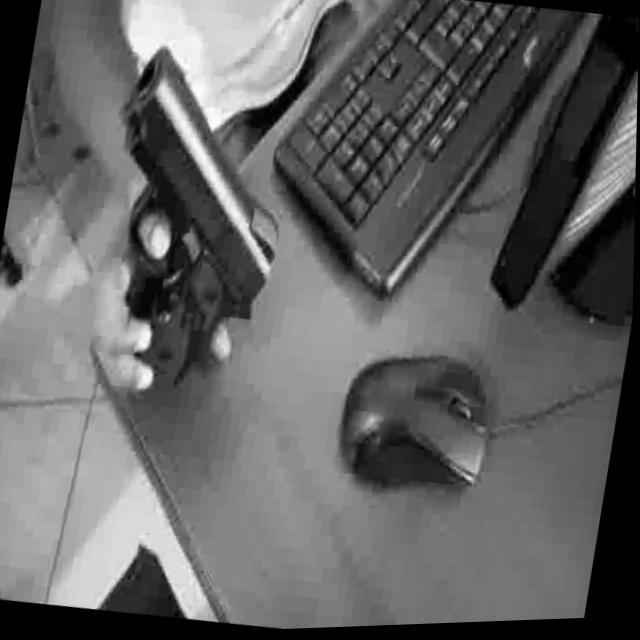weapon: (79, 37, 308, 404)
